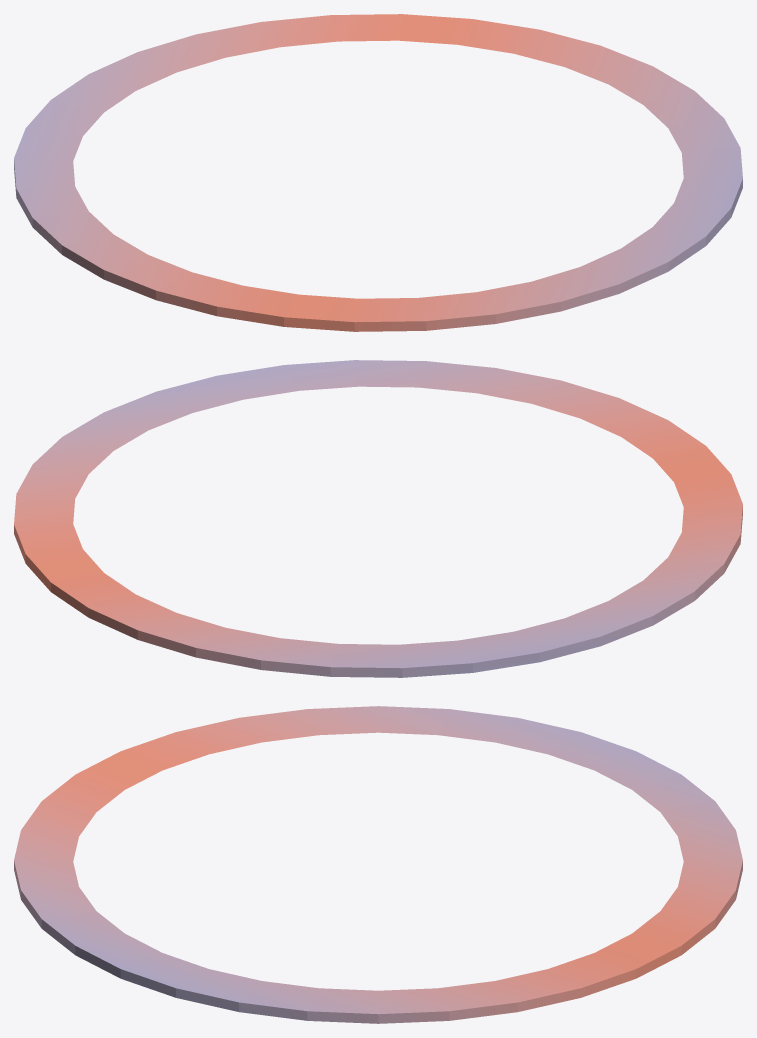
The model's file is Teleportation Circle.fbx.
3 renders of one model, top to bottom at view 1: azimuth 30°, elevation 25°; view 2: azimuth 150°, elevation 25°; view 3: azimuth 270°, elevation 25°, orthographic.
Visible parts, largest first — view 1: Circle; view 2: Circle; view 3: Circle.
Boxes of the visible parts, x1,y1,x2,y2 form: Circle: (14,14,742,331); Circle: (14,360,742,677); Circle: (14,706,742,1023).
Bounding box in the file's own units: 113 × 1.66 × 113.
